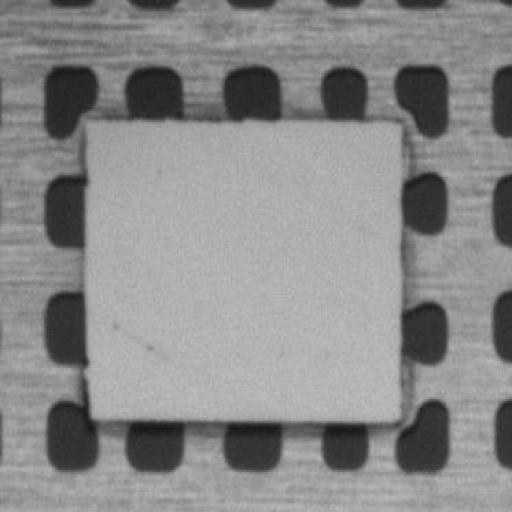DIE_CRACK: (106, 313, 178, 368)
